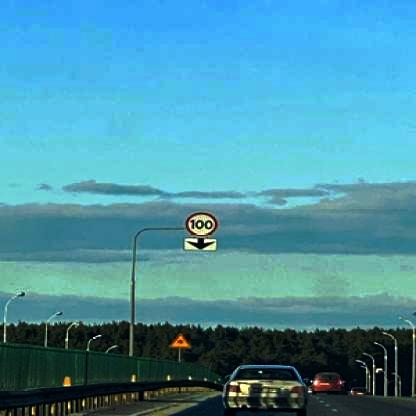Speed Limit -100-: (184, 209, 218, 237)
